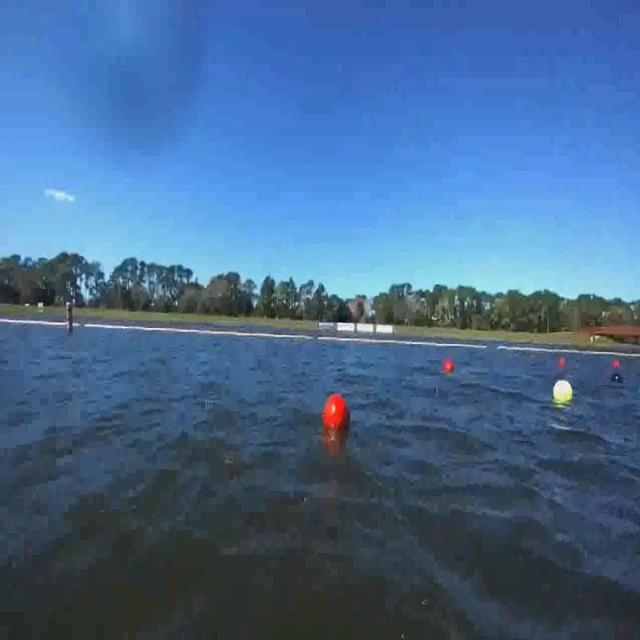black-buoy: (610, 369, 622, 384)
red-buoy: (323, 394, 350, 434), (444, 358, 456, 374), (614, 360, 623, 368), (559, 358, 566, 367)
yellow-buoy: (554, 378, 574, 402)
